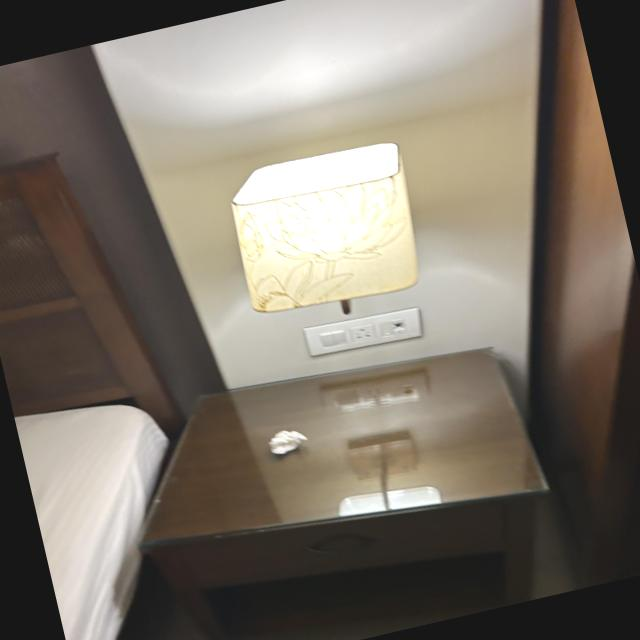mess: (144, 314, 556, 591)
